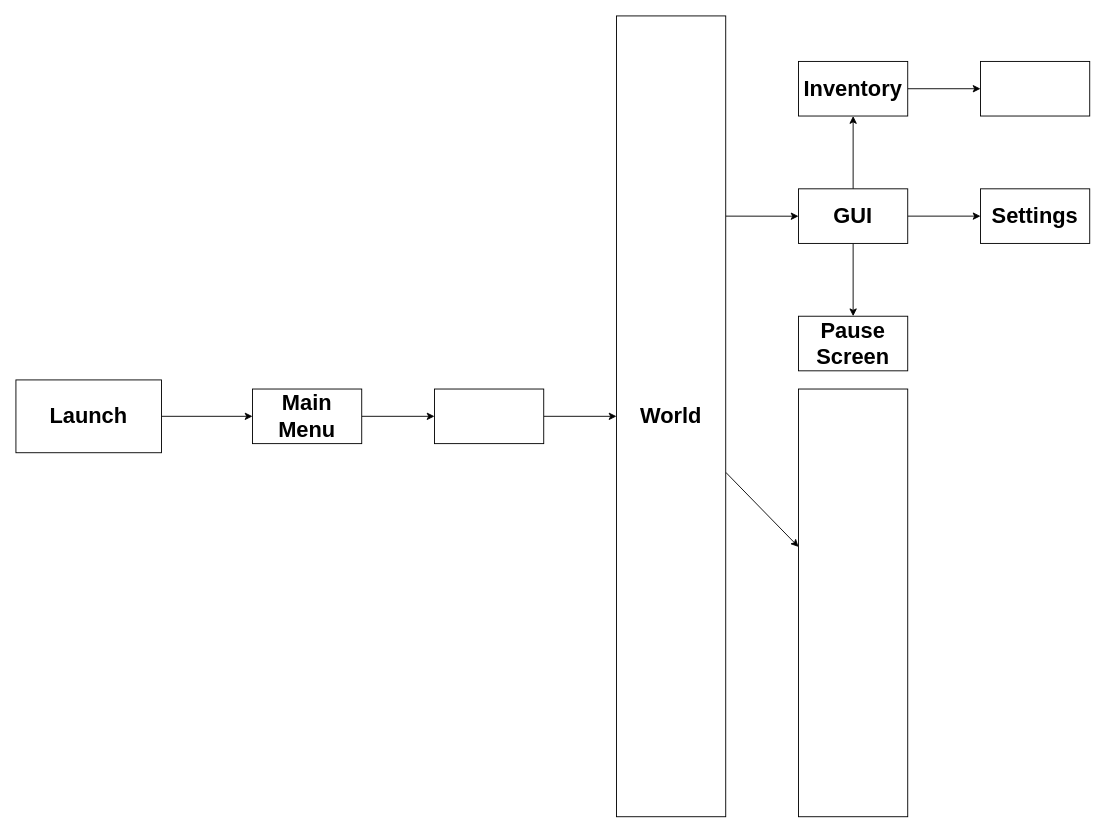
The diagram is 1106 pixels wide and 833 high, and some of its shapes have lost their labels. The centre of each missing label's shape, as x and y in pixels:
"Main Loop" goes at pixel 853 602.
"Skill Tree" goes at pixel 1035 88.
"World Manager" goes at pixel 489 416.
